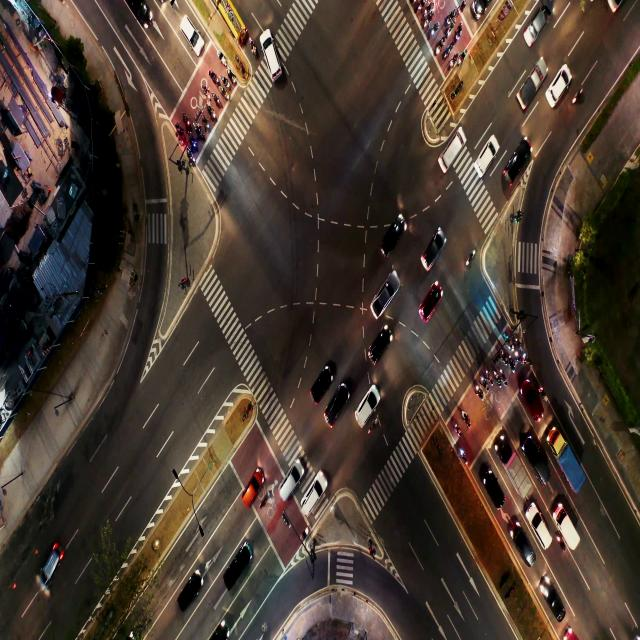bus: (218, 5, 240, 29)
car: (227, 548, 254, 584), (422, 234, 439, 272), (178, 576, 198, 608), (262, 36, 278, 75), (529, 13, 547, 47), (382, 222, 401, 253), (370, 288, 388, 320), (442, 140, 458, 172), (481, 474, 498, 504), (183, 19, 197, 53), (129, 10, 154, 29), (477, 142, 495, 168), (512, 528, 530, 554), (326, 392, 341, 423), (356, 396, 372, 425), (314, 372, 329, 402), (372, 332, 386, 364), (45, 549, 58, 583), (532, 450, 546, 481), (510, 156, 525, 183), (424, 290, 438, 318), (548, 76, 564, 100), (245, 476, 257, 506), (548, 587, 560, 614), (306, 486, 318, 512), (284, 471, 292, 503), (533, 521, 545, 542), (527, 392, 537, 416)
motorcycle: (464, 247, 478, 269), (260, 488, 271, 515), (365, 417, 379, 438), (246, 36, 256, 56), (571, 88, 583, 104), (455, 27, 462, 41), (431, 24, 439, 36), (415, 2, 423, 13), (184, 114, 190, 128), (436, 40, 443, 52), (176, 129, 183, 140), (459, 52, 466, 63), (424, 5, 431, 16), (509, 356, 514, 371), (444, 46, 450, 58), (448, 10, 454, 22), (556, 536, 562, 548), (450, 56, 455, 70), (202, 117, 208, 128), (204, 88, 210, 99), (211, 73, 217, 84), (219, 54, 225, 65), (462, 414, 468, 425), (476, 388, 482, 399), (424, 16, 430, 27), (197, 126, 202, 138), (214, 97, 220, 107), (302, 529, 308, 539), (503, 350, 507, 365), (448, 24, 452, 38), (188, 153, 194, 162), (462, 450, 466, 463), (223, 77, 228, 87), (507, 340, 512, 350), (501, 374, 505, 386), (540, 388, 544, 400), (482, 379, 487, 388), (459, 4, 464, 13), (210, 109, 215, 117), (524, 354, 528, 364), (456, 426, 460, 435), (514, 335, 518, 344), (191, 138, 196, 145), (516, 351, 519, 362), (228, 72, 232, 80), (487, 373, 491, 381), (221, 90, 226, 96), (496, 376, 499, 384)
truck: (503, 448, 522, 481), (521, 73, 540, 105), (560, 444, 575, 472), (558, 513, 570, 534)
